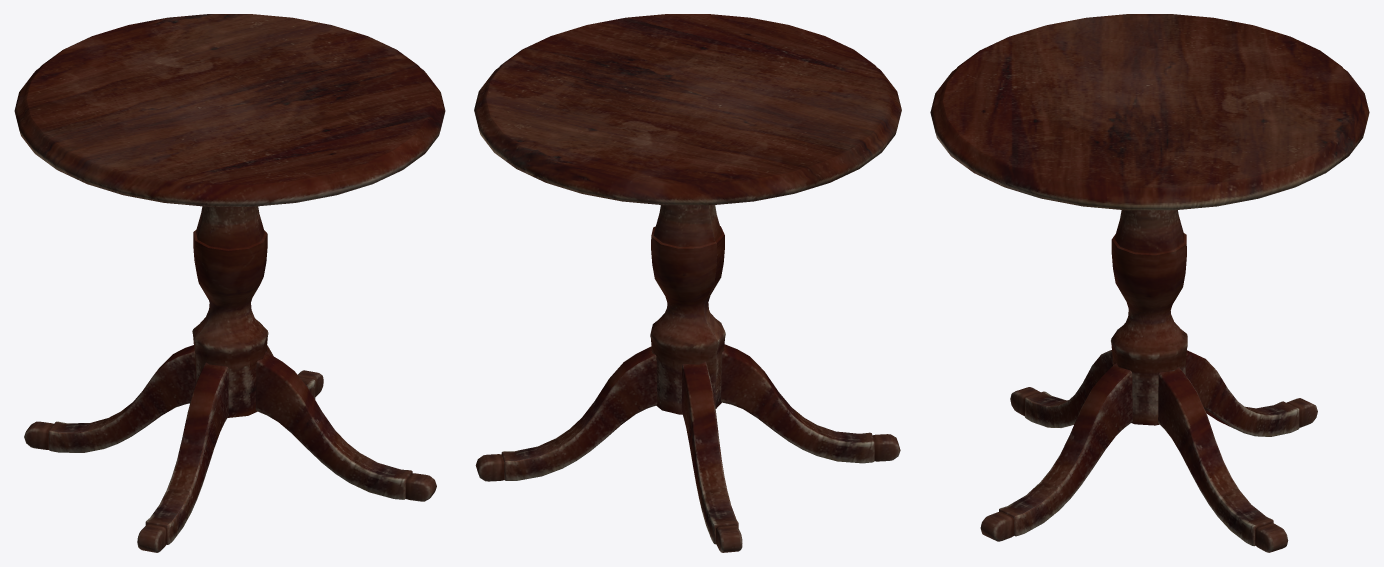
The model's file is Prop_RoundTable.fbx.
3 renders of one model, left to right at view 1: azimuth 30°, elevation 25°; view 2: azimuth 150°, elevation 25°; view 3: azimuth 270°, elevation 25°, orthographic. The views are drawn at different scales.
Parts seen in each view (by area): view 1: Prop_RoundTable; view 2: Prop_RoundTable; view 3: Prop_RoundTable.
Part boxes in pixels (box(x1,y1,x2,y2)): Prop_RoundTable: box(14, 14, 445, 552); Prop_RoundTable: box(474, 14, 901, 552); Prop_RoundTable: box(930, 14, 1369, 552).
Size of the model in its own units: 35.25 by 33.75 by 35.44.
